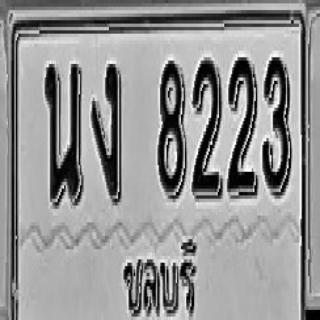A07: (91, 60, 121, 202)
A25: (44, 61, 83, 205)
N02: (227, 54, 257, 196), (192, 56, 222, 197)
N03: (262, 54, 291, 196)
N08: (158, 59, 185, 197)
P13: (119, 226, 199, 320)
